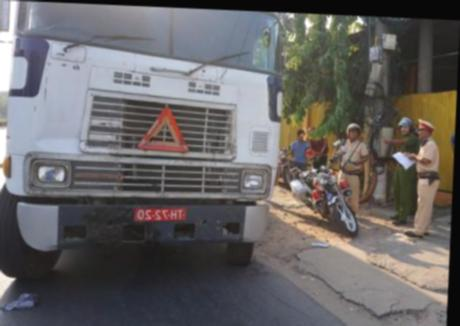License_Plate: (132, 202, 187, 228)
